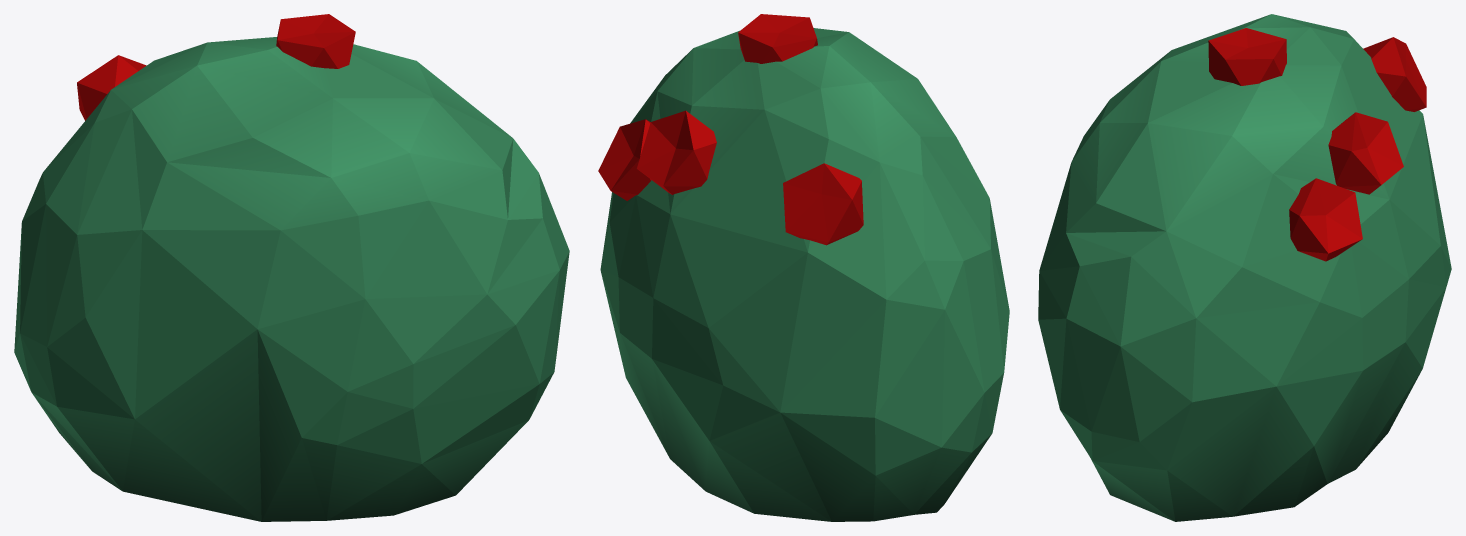
The model's file is bush_red_2.fbx.
The picture shows the model from 3 angles, left to right: view 1: azimuth 30°, elevation 25°; view 2: azimuth 150°, elevation 25°; view 3: azimuth 270°, elevation 25°; orthographic projection. The views are drawn at different scales.
Parts seen in each view (by area): view 1: bush_red_2; view 2: bush_red_2; view 3: bush_red_2.
Boxes of the visible parts, x1=… form: bush_red_2: x1=14, y1=14, x2=569, y2=521; bush_red_2: x1=598, y1=14, x2=1009, y2=521; bush_red_2: x1=1038, y1=14, x2=1451, y2=521.
Size of the model in its own units: 0.9557 by 0.7956 by 0.9134.
